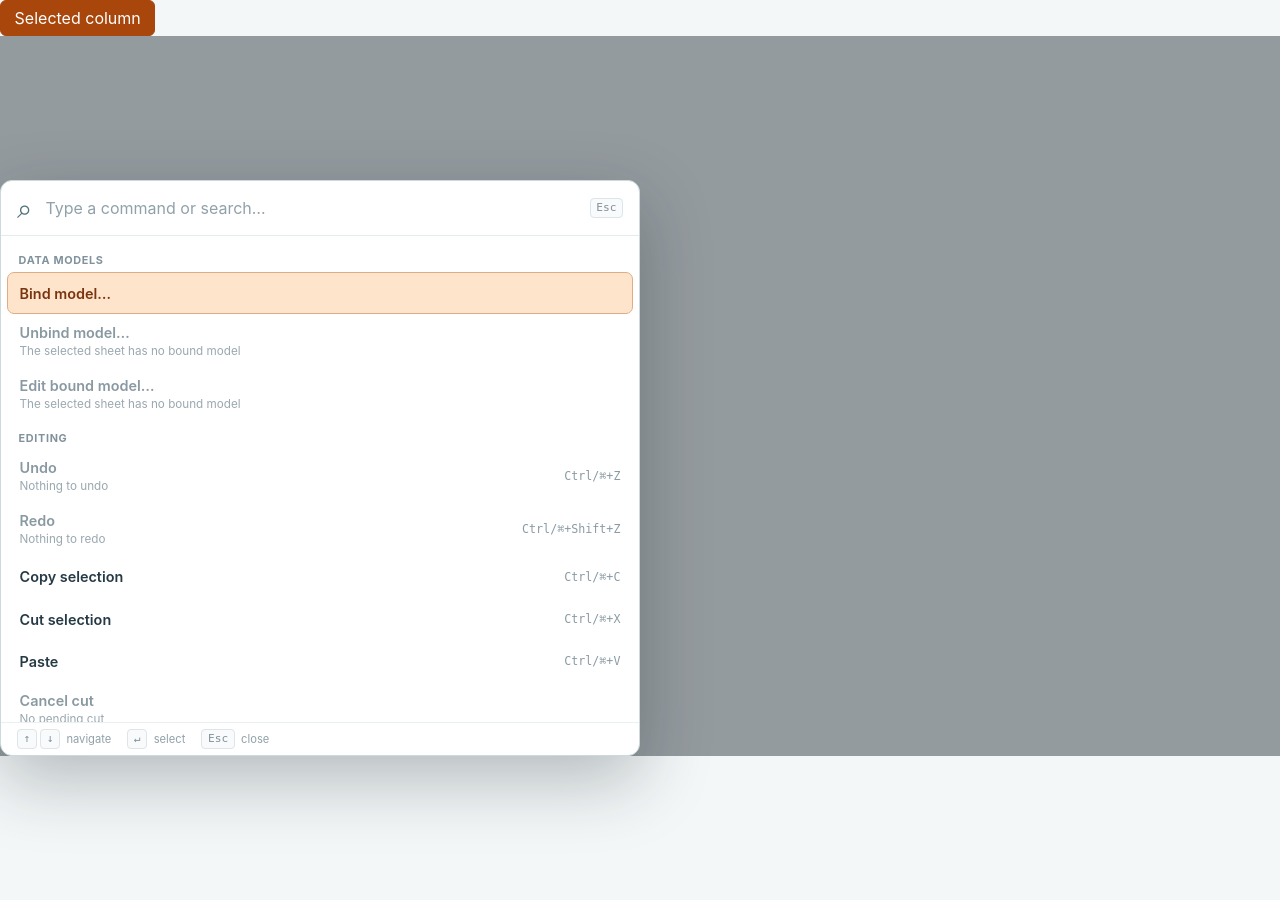
it: workspace palette actions › cancels an ordinary rename with Cancel and restores the selection focus
Type "Rename column" into the dropdown named "Command search". click: (311,208)
box: [43,197,578,219]
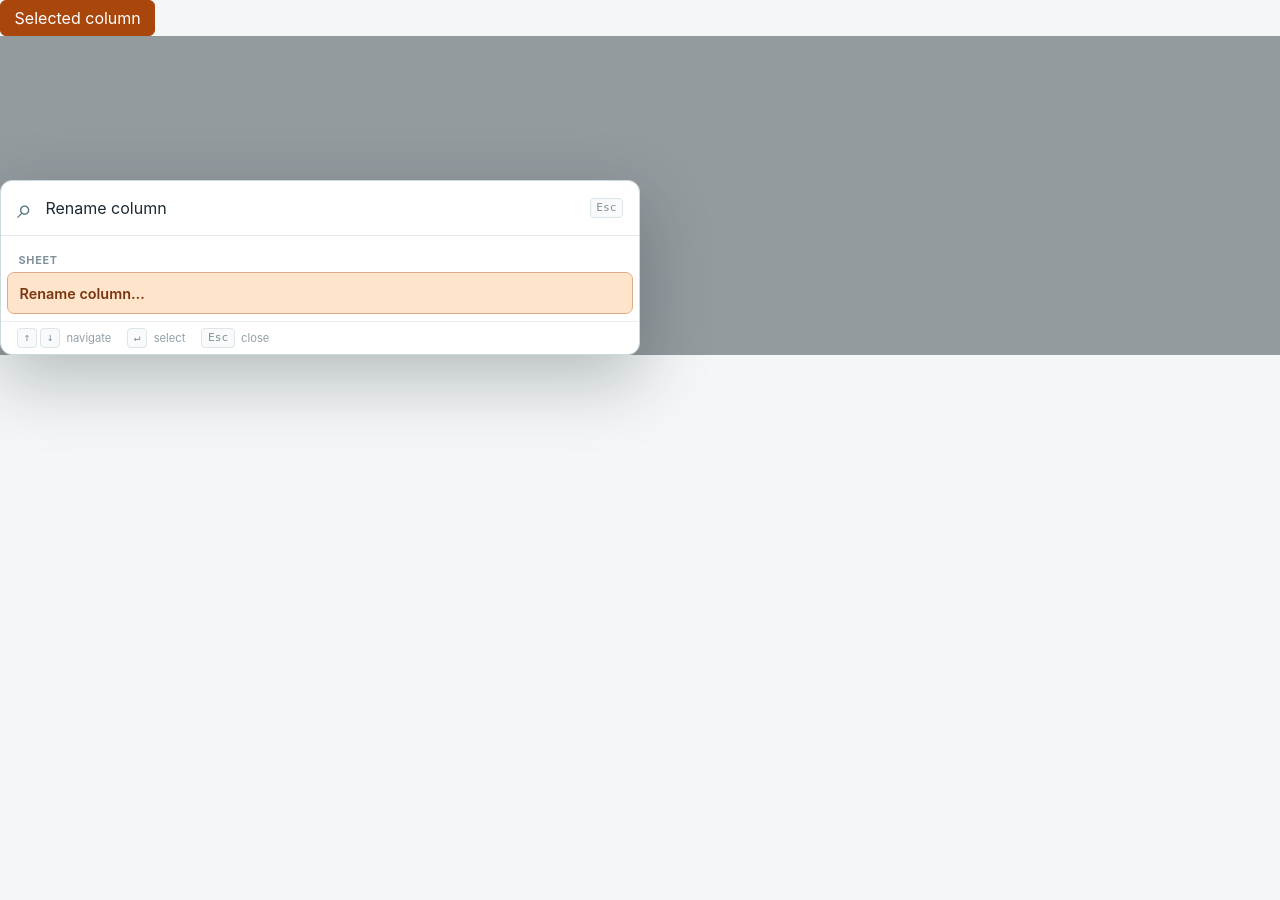
Press Enter in the dropdown named "Command search", box [43,197,578,219]
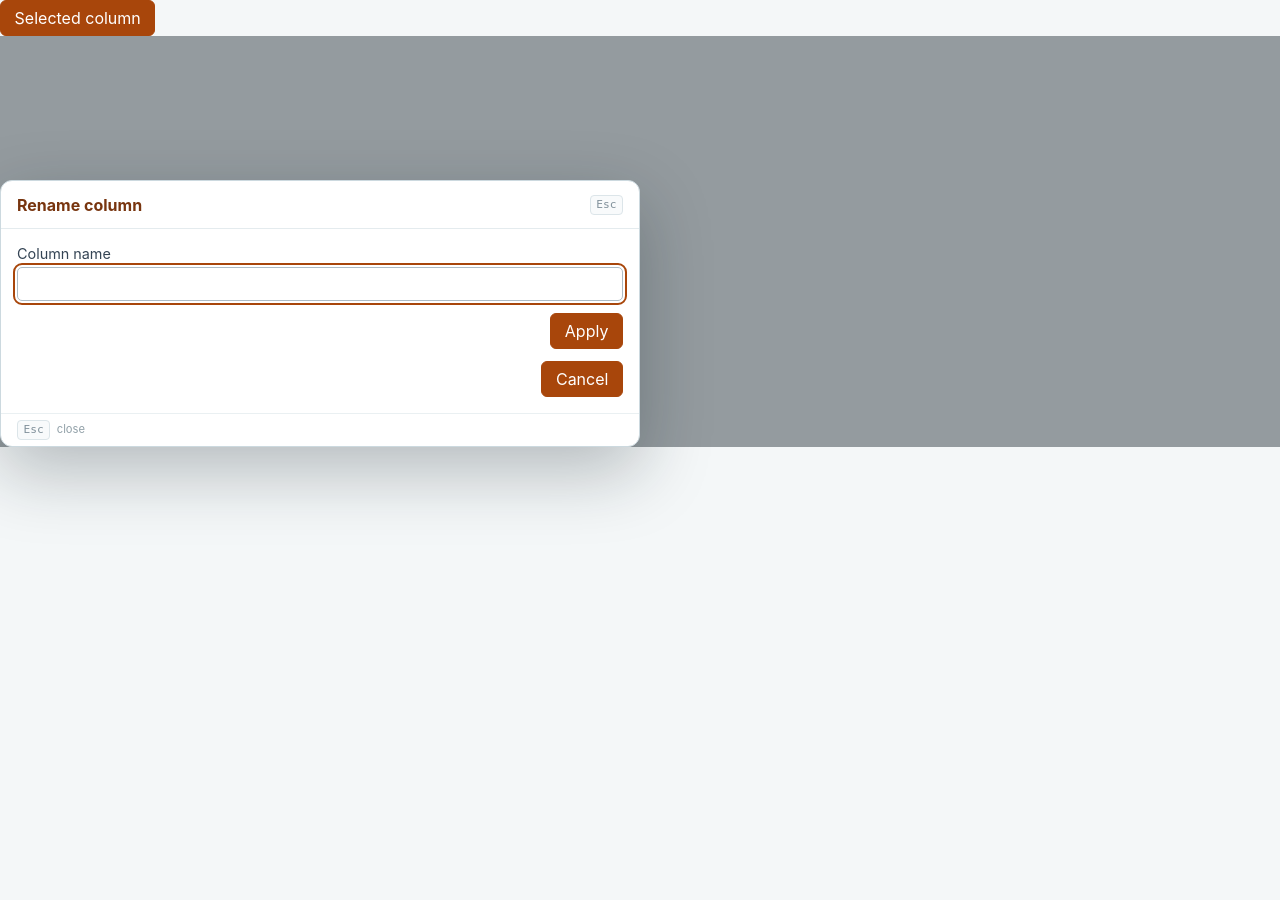
Type "Draft" into the field labelled "Column name". click: (320,284)
box: [17,267,623,301]
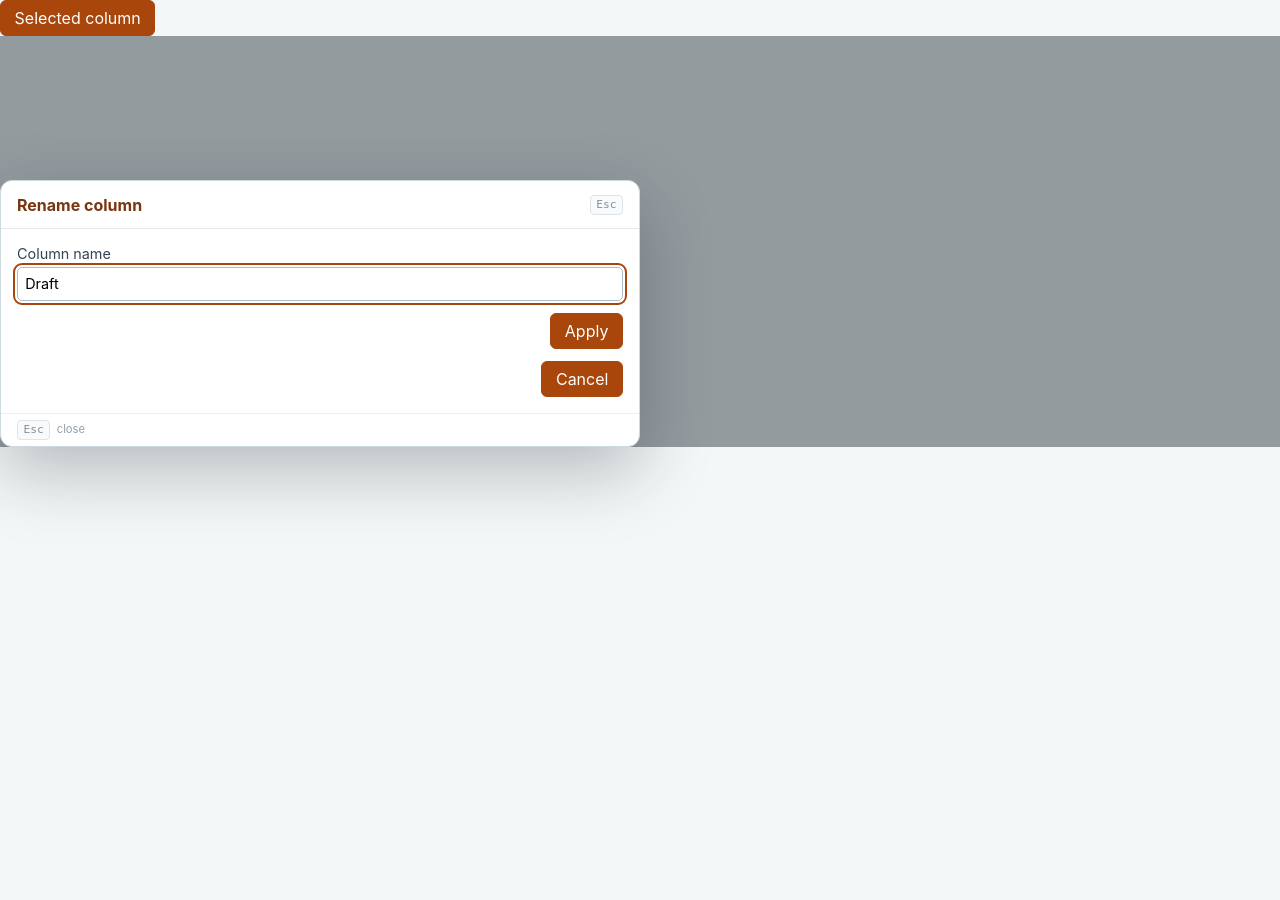
Click the button "Cancel". click: (582,379)
box: [541,361,623,397]
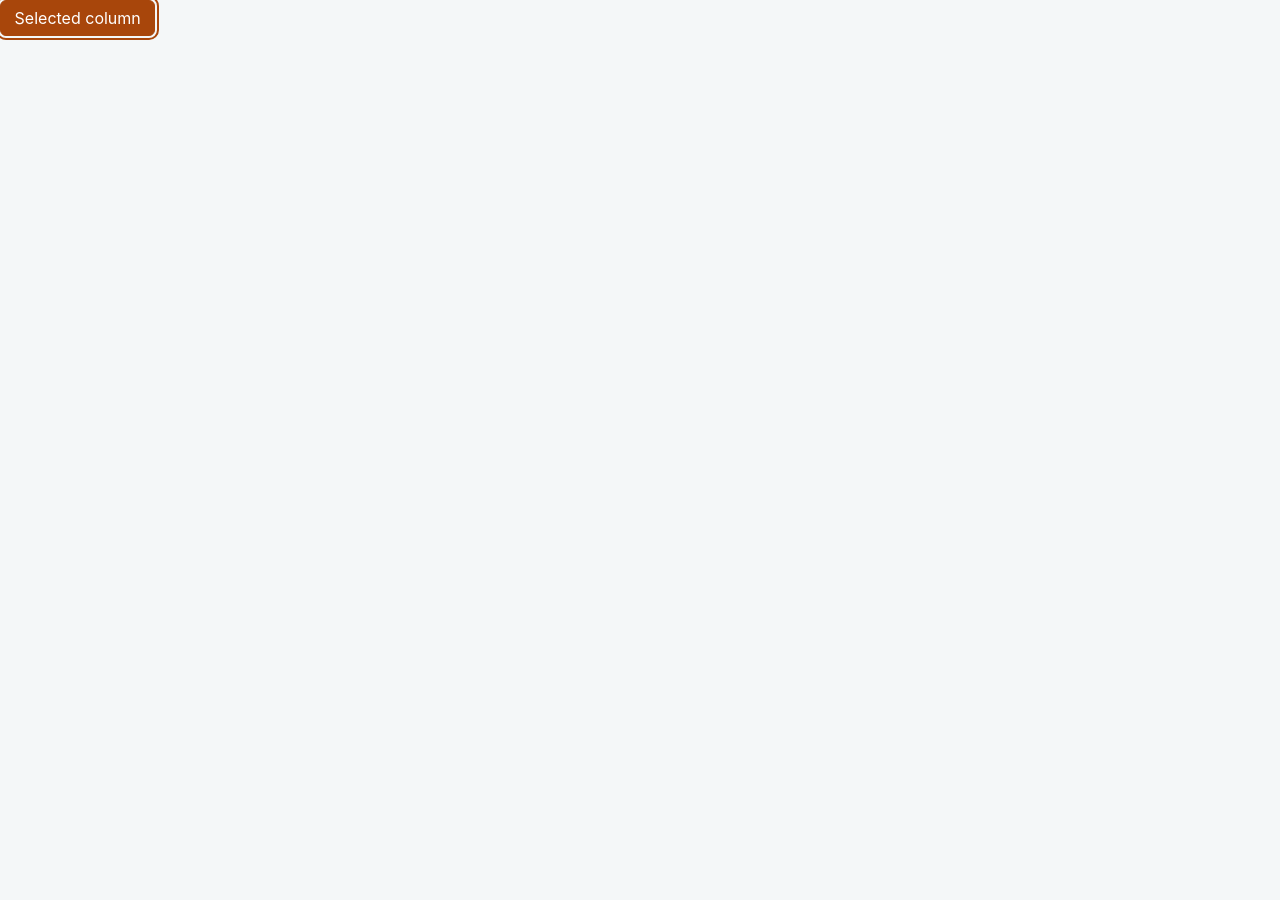
Now the dialog is gone
